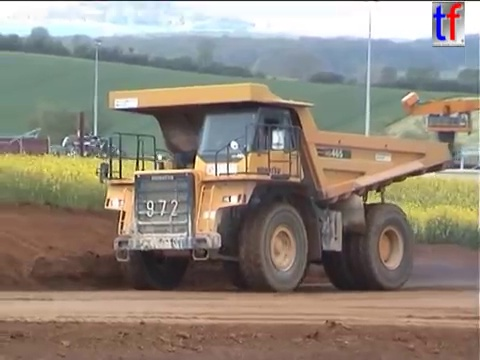crane: (399, 89, 480, 173)
truck: (93, 80, 456, 296)
